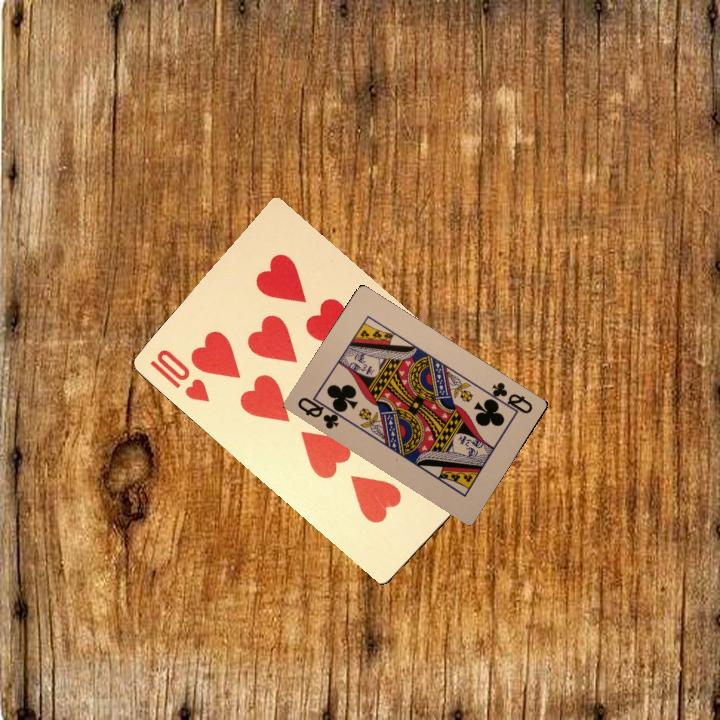10h: (145, 345, 213, 405)
Qc: (293, 392, 347, 432), (483, 378, 535, 416)
